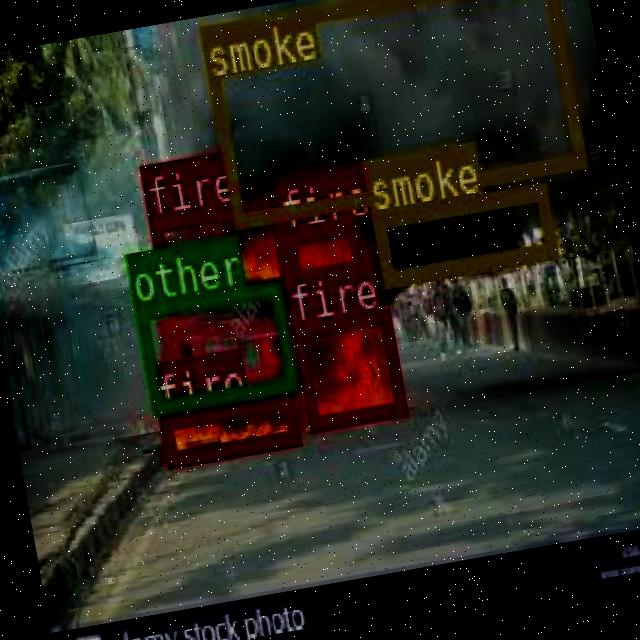fire: (146, 195, 290, 309), (289, 305, 405, 430), (156, 390, 296, 464), (282, 219, 368, 313)
smoke: (195, 0, 584, 225), (369, 179, 556, 284)
